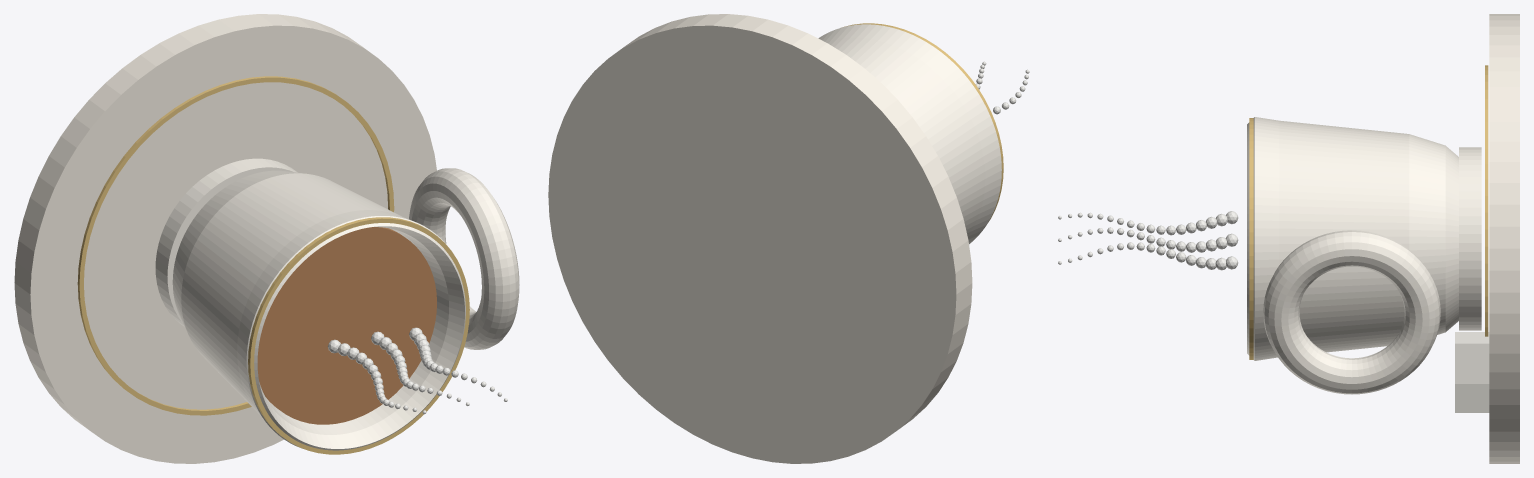
Rendered from masala_chai_cup_3d.glb.
The picture shows the model from 3 angles, left to right: view 1: azimuth 30°, elevation 25°; view 2: azimuth 150°, elevation 25°; view 3: azimuth 270°, elevation 25°; orthographic projection. The views are drawn at different scales.
Visible parts, largest first — view 1: Saucer body, Hollow ceramic tea cup, Tea surface, Curved ceramic cup handle, Saucer gold accent, Cup foot, Gold cup lip; view 2: Saucer body, Hollow ceramic tea cup, Gold cup lip; view 3: Hollow ceramic tea cup, Curved ceramic cup handle, Saucer body, Cup foot, Sugar cube 2, Gold cup lip, Saucer gold accent, Sugar cube 1.
Boxes of the visible parts, x1=… form: Saucer body: x1=14, y1=14, x2=436, y2=463; Hollow ceramic tea cup: x1=172, y1=170, x2=465, y2=450; Tea surface: x1=257, y1=227, x2=436, y2=424; Curved ceramic cup handle: x1=409, y1=168, x2=519, y2=349; Saucer gold accent: x1=77, y1=76, x2=394, y2=415; Cup foot: x1=155, y1=158, x2=297, y2=326; Gold cup lip: x1=248, y1=217, x2=469, y2=454; Saucer body: x1=548, y1=14, x2=972, y2=463; Hollow ceramic tea cup: x1=818, y1=24, x2=1001, y2=244; Gold cup lip: x1=844, y1=23, x2=1003, y2=222; Hollow ceramic tea cup: x1=1247, y1=117, x2=1458, y2=360; Curved ceramic cup handle: x1=1263, y1=230, x2=1440, y2=394; Saucer body: x1=1489, y1=14, x2=1519, y2=463; Cup foot: x1=1459, y1=147, x2=1481, y2=330; Sugar cube 2: x1=1455, y1=332, x2=1489, y2=383; Gold cup lip: x1=1249, y1=118, x2=1253, y2=359; Saucer gold accent: x1=1485, y1=65, x2=1488, y2=336; Sugar cube 1: x1=1455, y1=384, x2=1489, y2=412.
Size of the model in its own units: 2.36 by 2.36 by 2.42.
